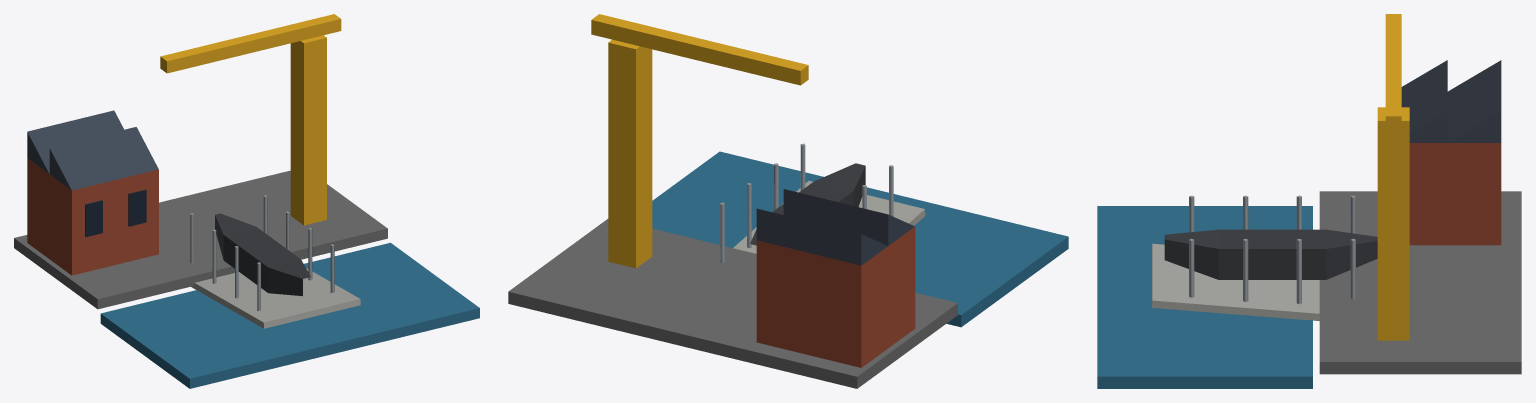
Rendered from bld_special_shipyard_a05_lod1.glb.
3 renders of one model, left to right at view 1: azimuth 30°, elevation 25°; view 2: azimuth 150°, elevation 25°; view 3: azimuth 270°, elevation 25°, orthographic. The views are drawn at different scales.
Parts seen in each view (by area): view 1: body, crane; view 2: body, crane; view 3: body, crane.
Part boxes in pixels (box(x1,y1,x2,y2)): body: box(14, 110, 479, 388); crane: box(160, 14, 341, 225); body: box(508, 143, 1068, 388); crane: box(591, 14, 808, 268); body: box(1097, 60, 1521, 388); crane: box(1377, 14, 1409, 340).
Bounding box in the file's own units: 15 × 10.7 × 15.75.
